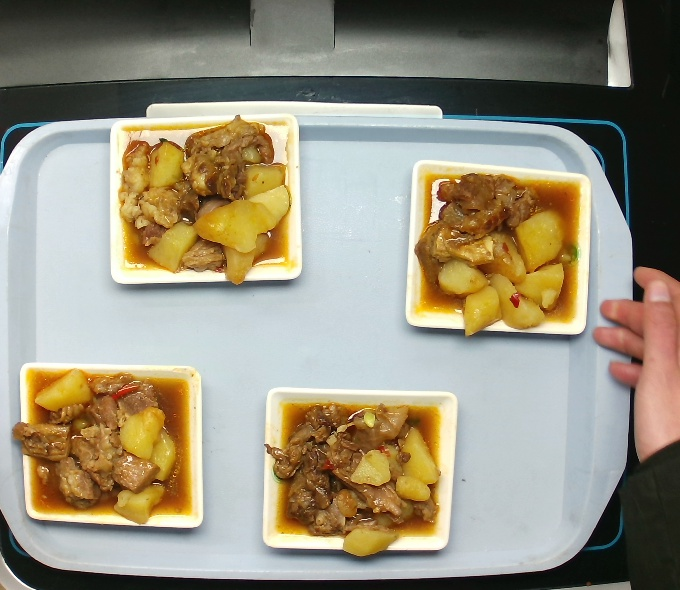wcq-TuDouNiuNan: (114, 111, 296, 292), (8, 362, 186, 534), (261, 397, 446, 561), (408, 167, 579, 344)
